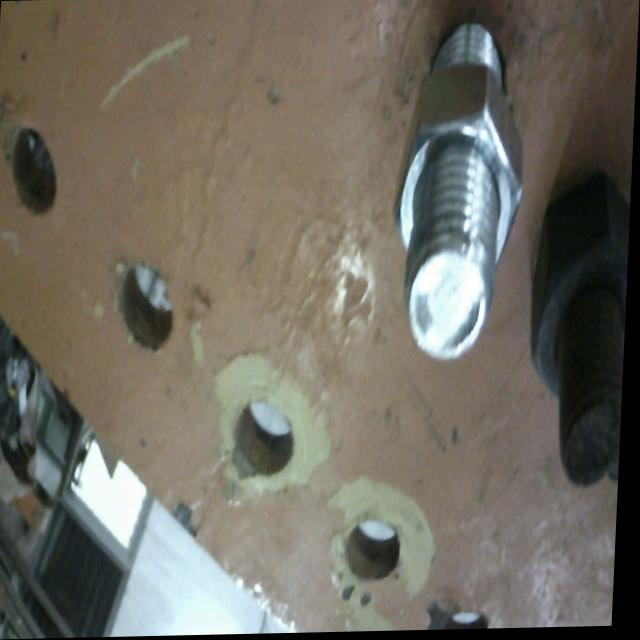Loose bolt: (390, 17, 525, 356)
Missing bolt: (120, 262, 178, 360), (235, 402, 300, 484), (10, 126, 62, 224), (349, 519, 410, 592), (447, 608, 493, 633)
Regular bolt: (387, 12, 515, 353)
Rusty bolt: (528, 190, 630, 492)
